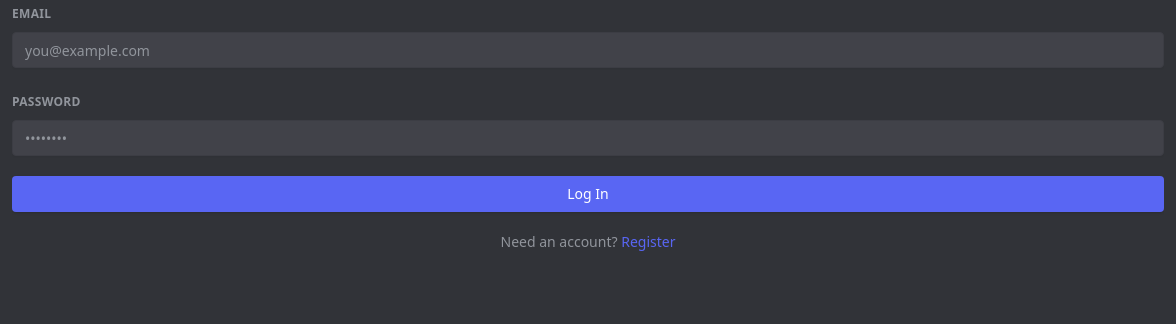
LoginForm › falls back to generic error when no response body
The image size is (1176, 324).
In the field labelled "Email": (588, 50) x1=12 y1=32 x2=1164 y2=68, type "x@x.com"
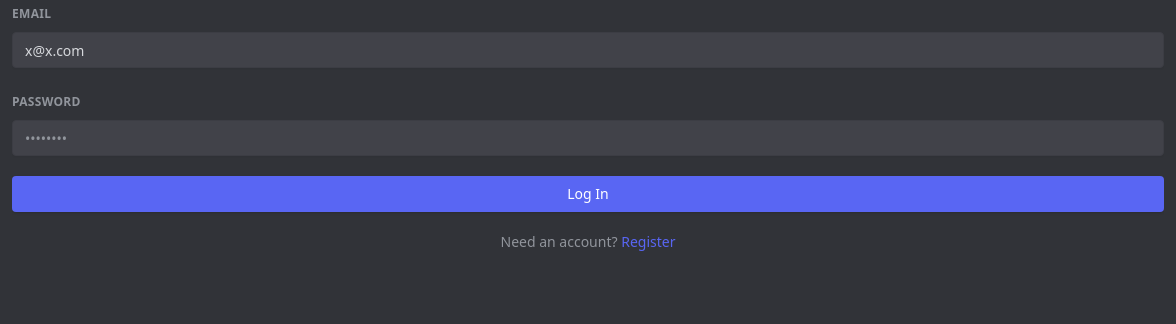
In the password field labelled "Password": (588, 138) x1=12 y1=120 x2=1164 y2=156, type "password"
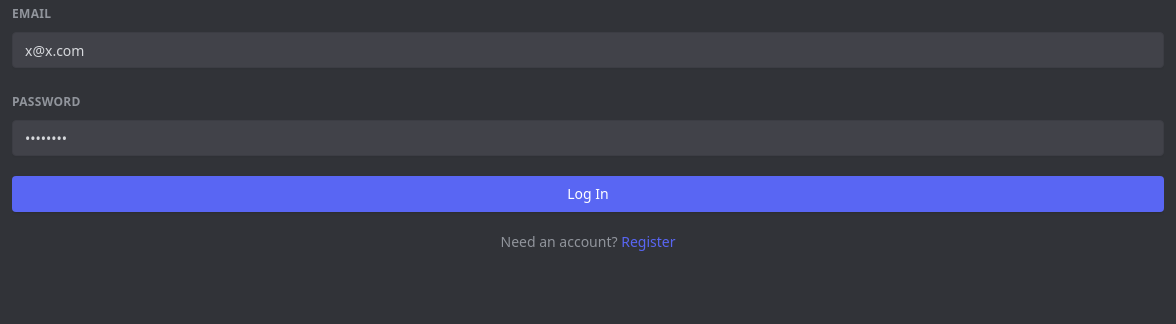
Click the button "Log In": (588, 194) x1=12 y1=176 x2=1164 y2=212
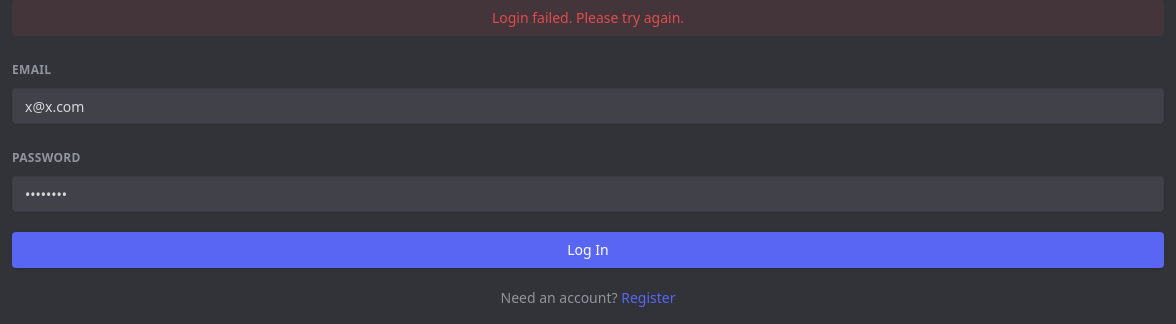
expect the text "Login failed. Please try again." is shown: met, box x1=12 y1=0 x2=1164 y2=36
